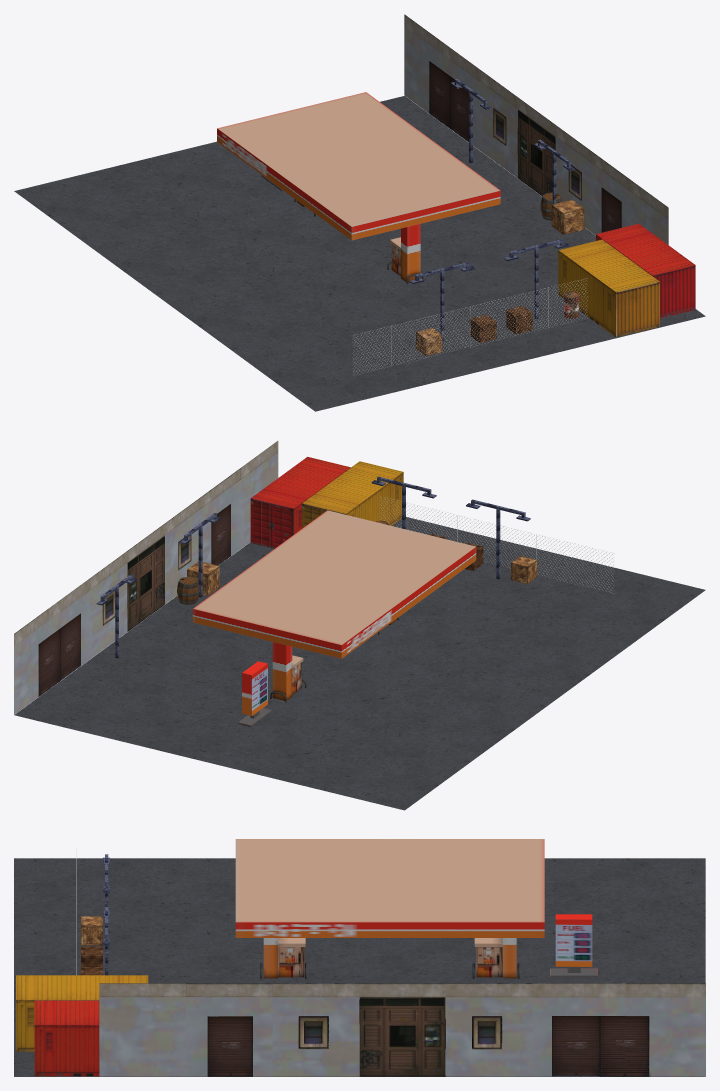
File: GasStation.fbx
3 renders of one model, top to bottom at view 1: azimuth 30°, elevation 25°; view 2: azimuth 150°, elevation 25°; view 3: azimuth 270°, elevation 25°, orthographic. The views are drawn at different scales.
Parts seen in each view (by area): view 1: Floor, Gas_Station, Wall, Container1, Container2, Grid, Box2, LightPost.003, LightPost, Box4, Box3, Box1; view 2: Floor, Gas_Station, Wall, Container2, Container1, Grid, Sign, LightPost, Box2, Box1, LightPost.002; view 3: Wall, Floor, Gas_Station, Container2, Container1, Sign, Box1, Box3.
Boxes of the visible parts, box(x1,y1,x2,y2) form: Floor: box(14, 96, 705, 411); Gas_Station: box(217, 92, 500, 282); Wall: box(404, 14, 668, 244); Container1: box(558, 239, 659, 337); Container2: box(596, 223, 695, 318); Grid: box(352, 278, 587, 374); Box2: box(551, 199, 584, 234); LightPost.003: box(504, 239, 568, 318); LightPost: box(410, 262, 474, 341); Box4: box(506, 306, 532, 334); Box3: box(470, 315, 496, 342); Box1: box(416, 328, 442, 355); Floor: box(14, 517, 705, 810); Gas_Station: box(192, 510, 476, 700); Wall: box(14, 441, 278, 714); Container2: box(250, 456, 350, 548); Container1: box(302, 461, 403, 528); Grid: box(380, 497, 614, 592); Sign: box(238, 661, 271, 727); LightPost: box(466, 499, 530, 579); Box2: box(187, 561, 219, 596); Box1: box(511, 556, 537, 584); LightPost.002: box(180, 513, 220, 597); Wall: box(99, 983, 705, 1076); Floor: box(14, 858, 705, 1076); Gas_Station: box(235, 839, 544, 978); Container2: box(34, 1000, 99, 1076); Container1: box(16, 975, 148, 1051); Sign: box(550, 914, 597, 977); Box1: box(81, 916, 102, 945); Box3: box(81, 946, 102, 966).
Size of the model in its own units: 5987 by 1241 by 8004.
